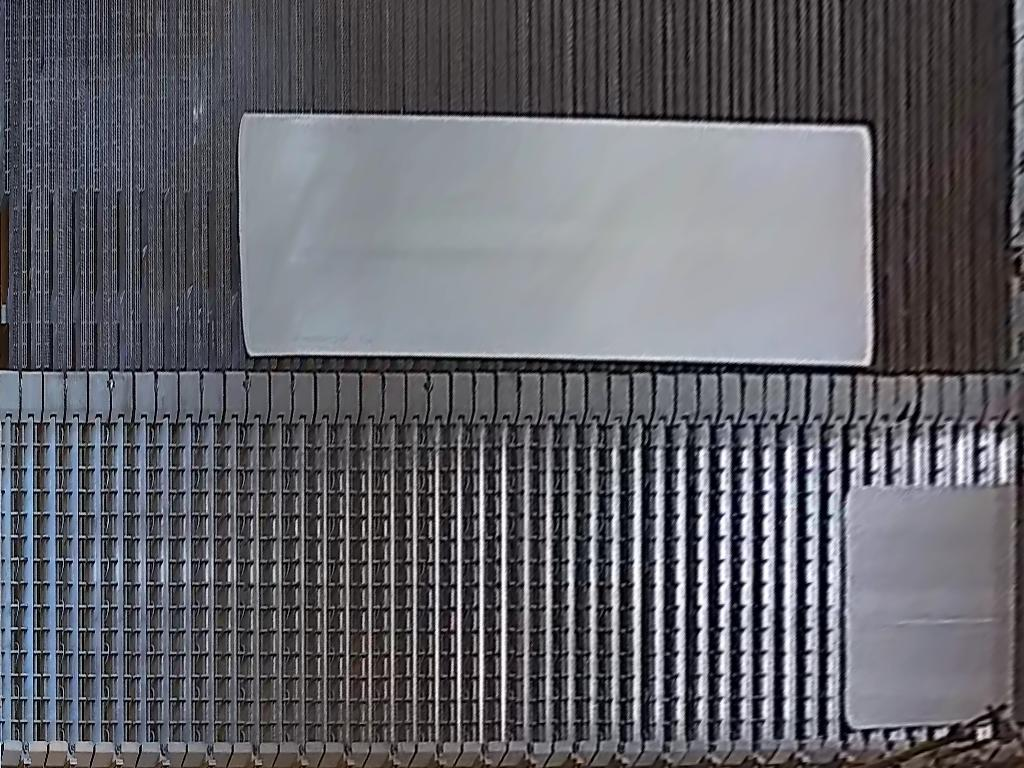steel: (235, 113, 874, 368), (841, 486, 1022, 732)
